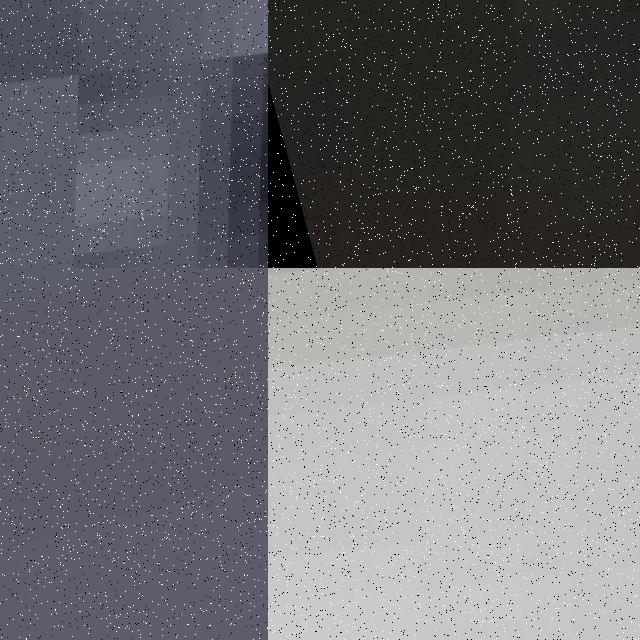0: (0, 0, 268, 268)
drone: (268, 268, 640, 640), (268, 0, 640, 268)
